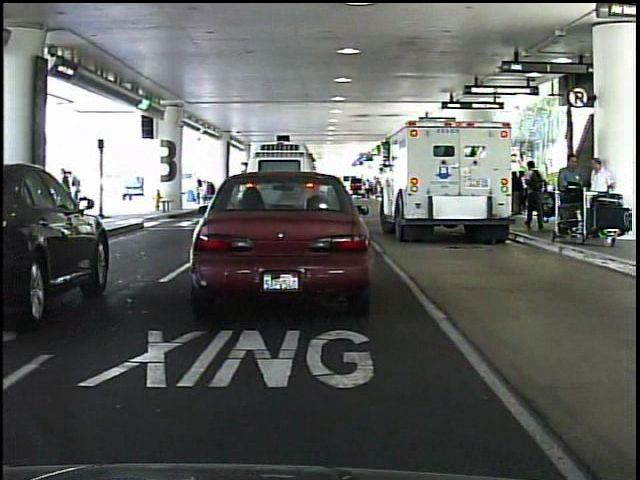person: (62, 167, 84, 224)
